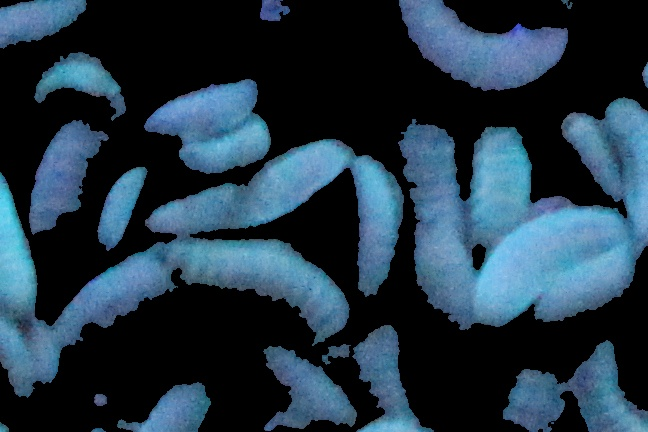larvae: (46, 237, 347, 342), (394, 132, 483, 407), (154, 128, 344, 232), (397, 1, 570, 93), (483, 203, 608, 325), (1, 1, 87, 114), (344, 157, 404, 312), (31, 110, 96, 239), (154, 61, 251, 146), (260, 344, 358, 428), (603, 96, 648, 254), (19, 52, 132, 111), (573, 343, 648, 426), (556, 110, 623, 198), (480, 123, 537, 224), (358, 323, 411, 415), (94, 165, 144, 248), (1, 168, 33, 296), (143, 373, 209, 432)
